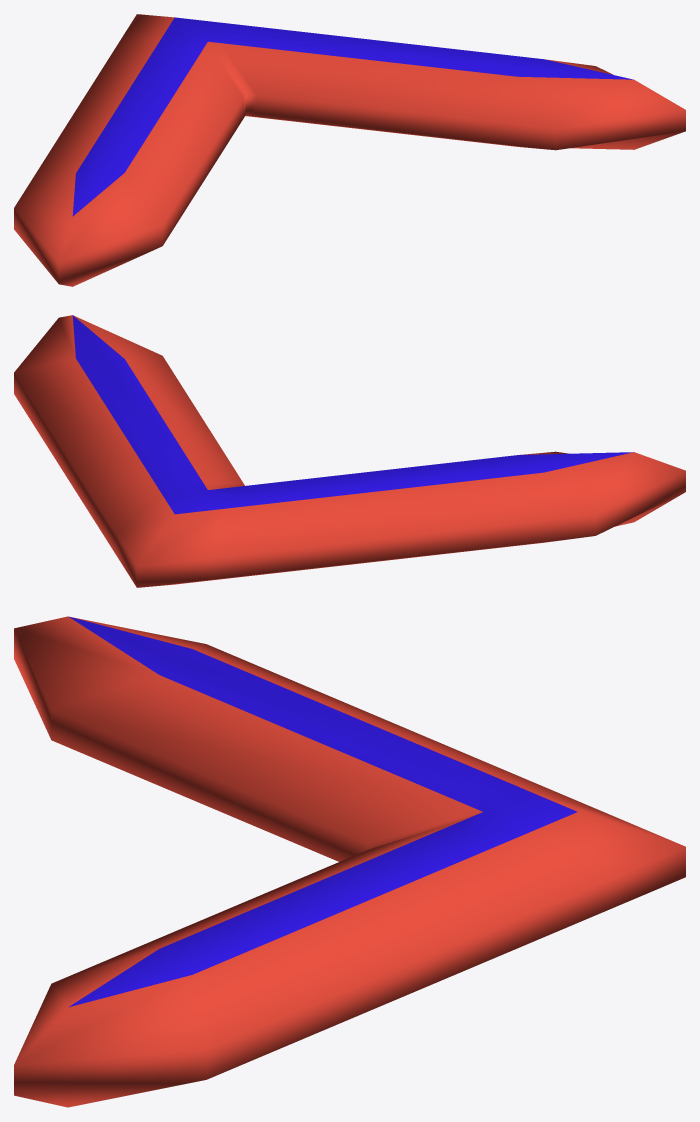
File: Boomerang.fbx
3 views of the same model, one above another, from view 1: azimuth 30°, elevation 25°; view 2: azimuth 150°, elevation 25°; view 3: azimuth 270°, elevation 25° (orthographic). The views are drawn at different scales.
Visible parts, largest first — view 1: Boomerang; view 2: Boomerang; view 3: Boomerang.
Part boxes in pixels (<box>): Boomerang: <box>14,14,685,286</box>; Boomerang: <box>14,315,685,587</box>; Boomerang: <box>14,616,685,1107</box>.
Size of the model in its own units: 129 by 13.8 by 83.97.
